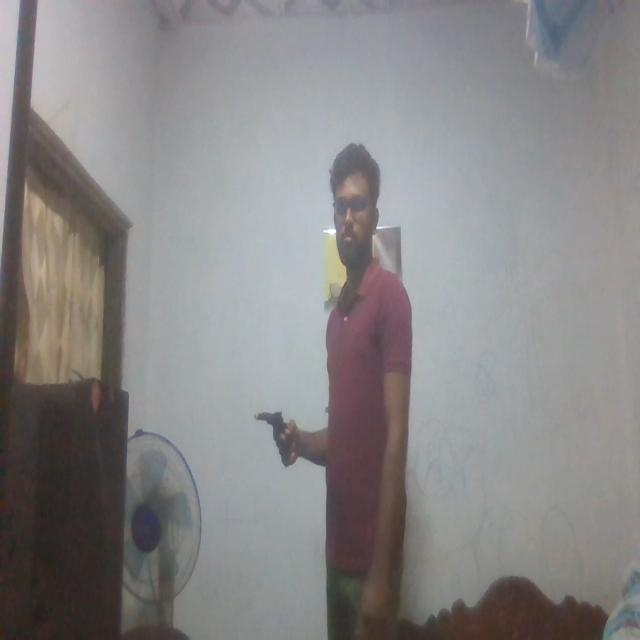Gun_Holder: (258, 407, 300, 461)
Person: (273, 138, 410, 640)
